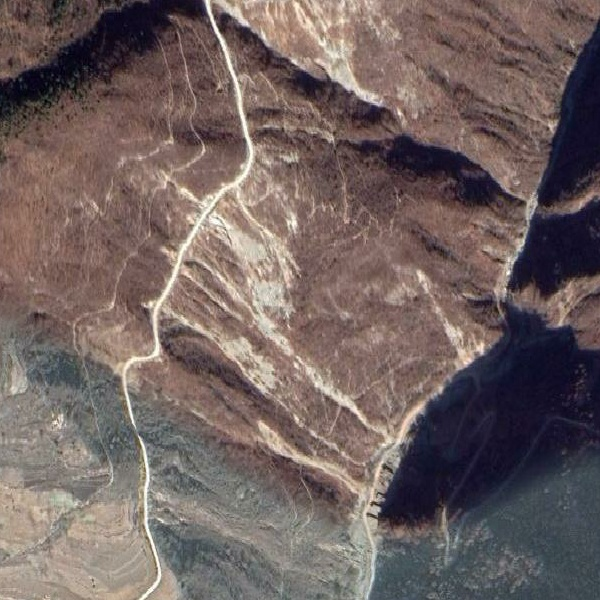slope: (159, 145, 310, 398), (252, 420, 368, 518), (413, 267, 488, 367), (315, 37, 393, 112)
